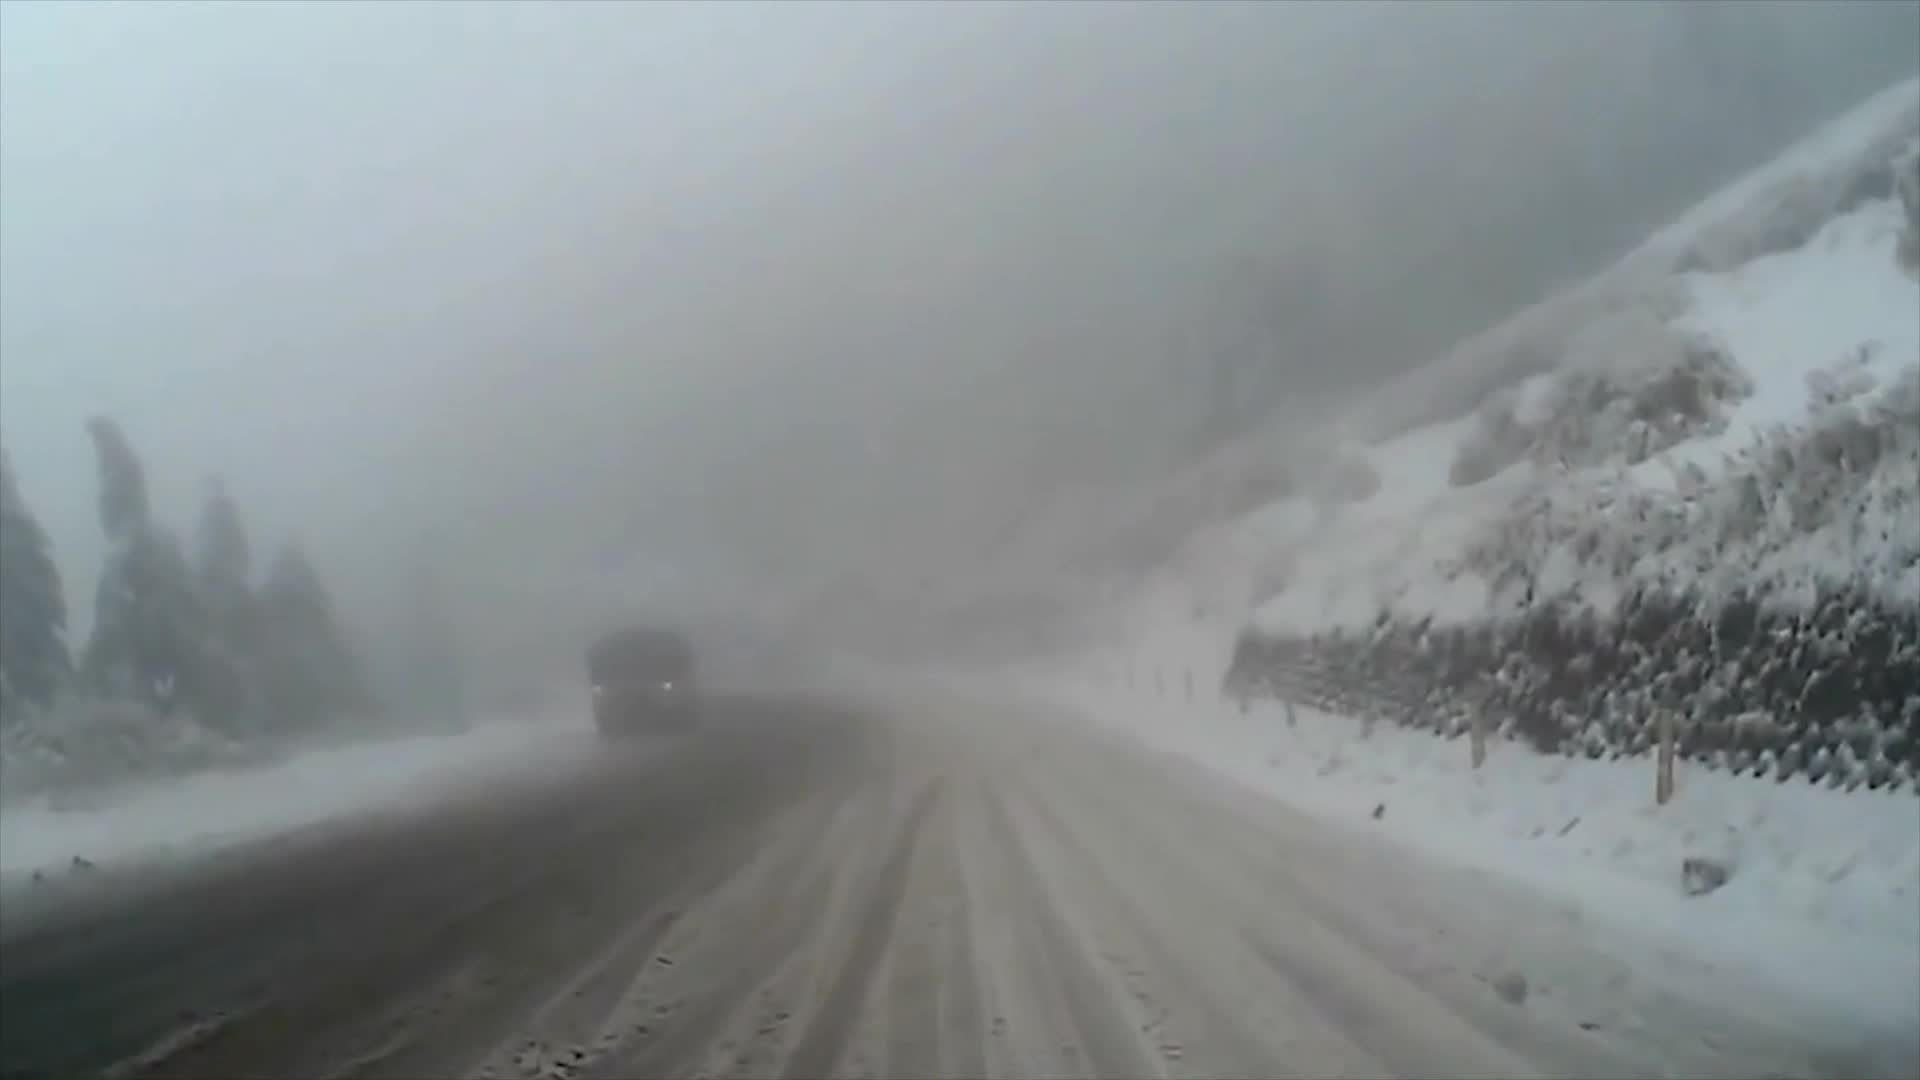vehicle: (578, 630, 696, 736)
